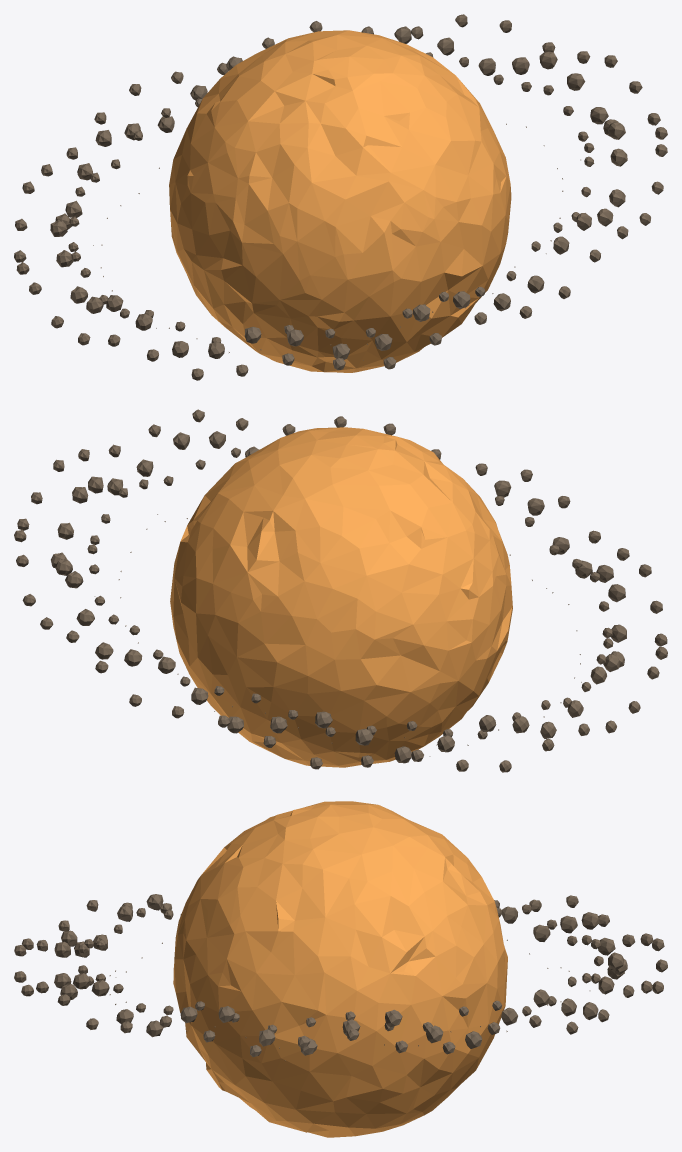
File: Saturn 1.fbx
3 renders of one model, top to bottom at view 1: azimuth 30°, elevation 25°; view 2: azimuth 150°, elevation 25°; view 3: azimuth 270°, elevation 25°, orthographic.
Visible parts, largest first — view 1: 球体_1, 阵列; view 2: 球体_1, 阵列; view 3: 球体_1, 阵列.
Boxes of the visible parts, x1,y1,x2,y2 form: 球体_1: [169, 30, 511, 372]; 阵列: [14, 14, 667, 380]; 球体_1: [170, 427, 512, 767]; 阵列: [14, 409, 667, 772]; 球体_1: [173, 801, 507, 1137]; 阵列: [14, 894, 667, 1060].
Size of the model in its own units: 2903 by 1518 by 2967.
